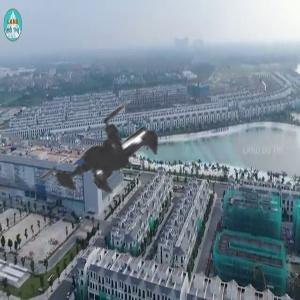drone: (7, 57, 223, 273)
